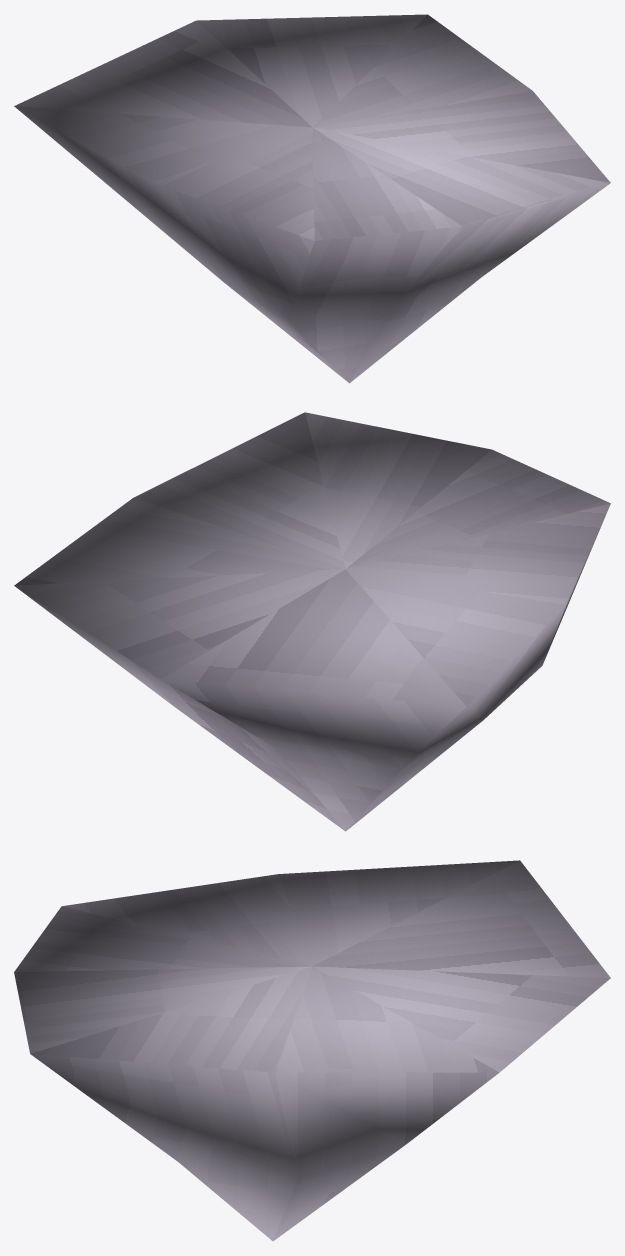
Rendered from DECO_SPIN_ROCK.glb.
The picture shows the model from 3 angles, top to bottom: view 1: azimuth 30°, elevation 25°; view 2: azimuth 150°, elevation 25°; view 3: azimuth 270°, elevation 25°; orthographic projection. The views are drawn at different scales.
Visible parts, largest first — view 1: DECO_SPIN_ROCK; view 2: DECO_SPIN_ROCK; view 3: DECO_SPIN_ROCK.
Part boxes in pixels (x1,y1,x2,y2): DECO_SPIN_ROCK: (14, 14, 610, 383); DECO_SPIN_ROCK: (14, 412, 610, 831); DECO_SPIN_ROCK: (14, 860, 610, 1241).
Size of the model in its own units: 2.44 by 1.42 by 2.9.
1 material, 1 textured.
